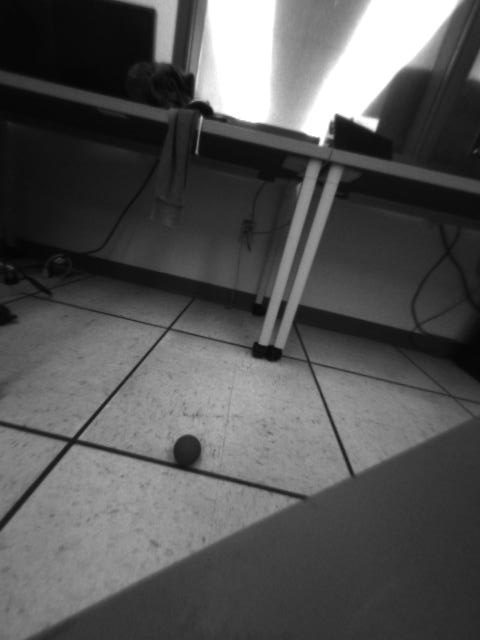dogtoy: (169, 432, 211, 477)
